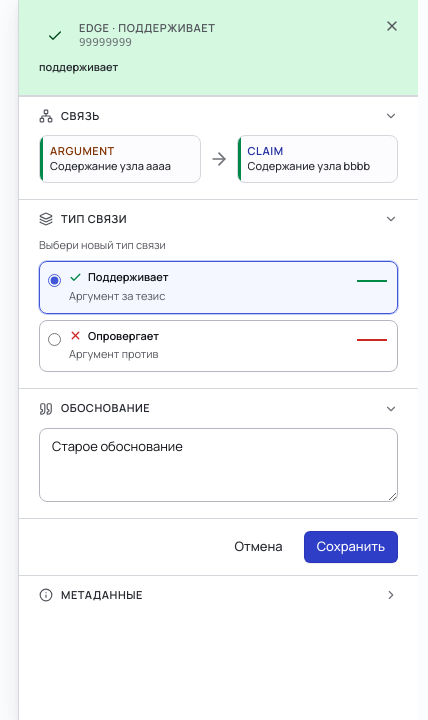
Test: EdgeDetailsPanel › ошибка от бэка показывается и панель остаётся в edit mode
Click the radio button labelled "Опровергает Аргумент против" at (54, 339), box [48,333,61,346]
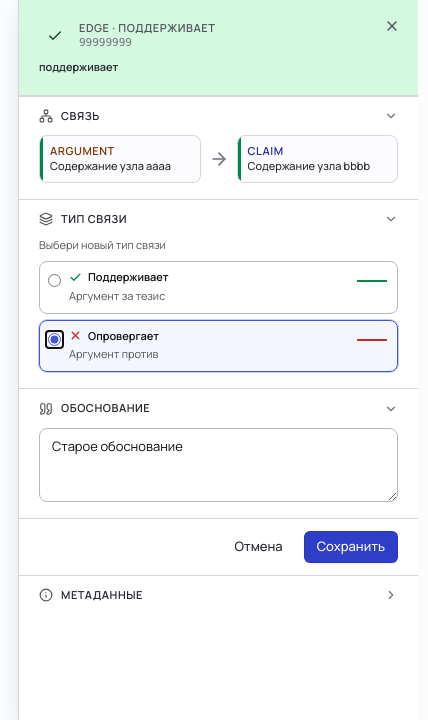
Click the button "Сохранить" at (351, 546), box [304,530,398,562]
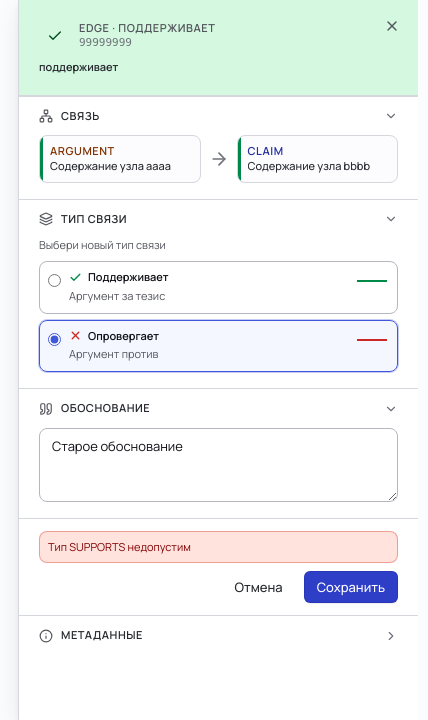
Check: the button "Сохранить" is shown, box [304,571,398,603]
Check: the text "Тип SUPPORTS недопустим" is shown, box [39,530,398,563]
